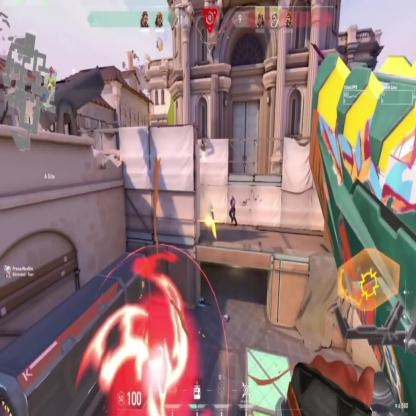enemy: (229, 195, 236, 227)
enemy_head: (232, 196, 234, 200)
